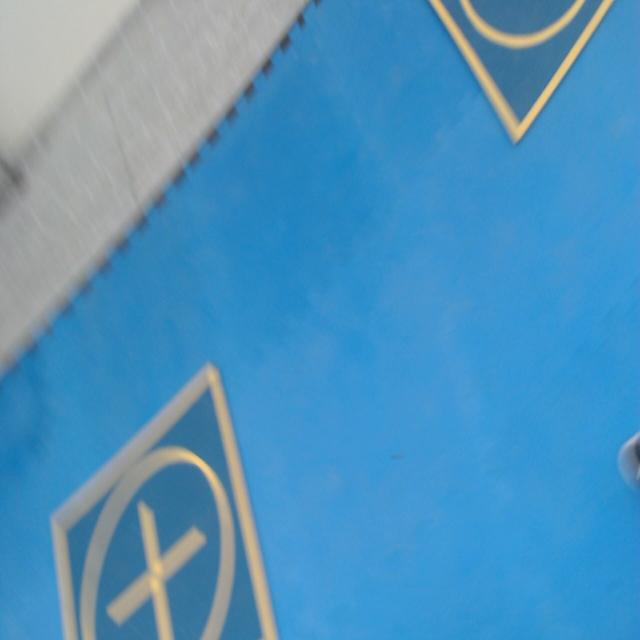base_pouso: (49, 359, 282, 639), (428, 0, 616, 147)
